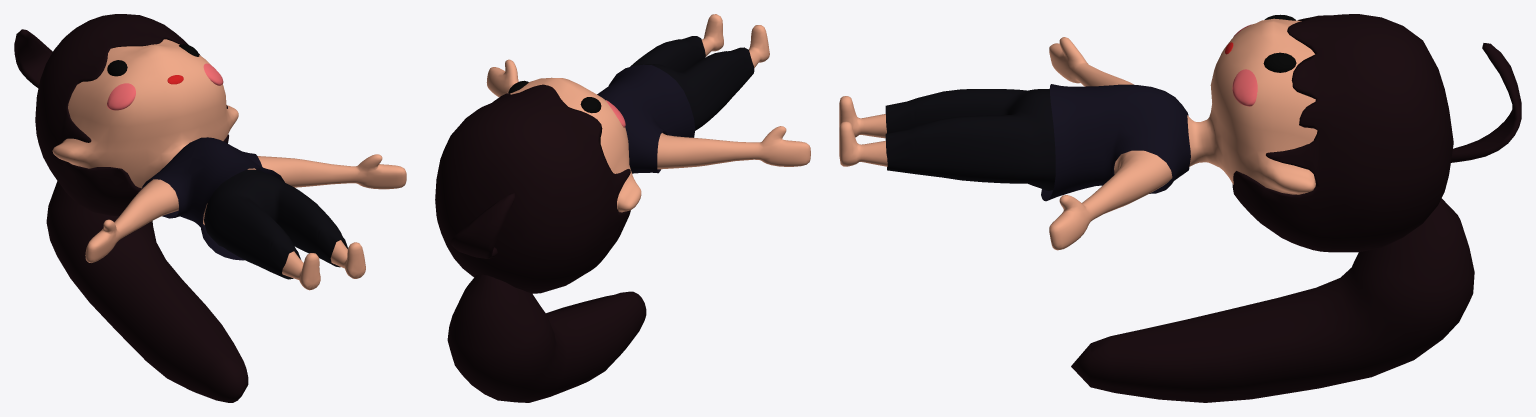
Rendered from Dolla_001.fbx.
3 views of the same model, side by side, from view 1: azimuth 30°, elevation 25°; view 2: azimuth 150°, elevation 25°; view 3: azimuth 270°, elevation 25° (orthographic). The views are drawn at different scales.
Parts seen in each view (by area): view 1: Body001; view 2: Body001; view 3: Body001.
Part boxes in pixels (box(x1,y1,x2,y2)): Body001: box(14, 14, 406, 402); Body001: box(435, 14, 810, 402); Body001: box(839, 14, 1521, 402).
Size of the model in its own units: 157 by 148 by 242.
